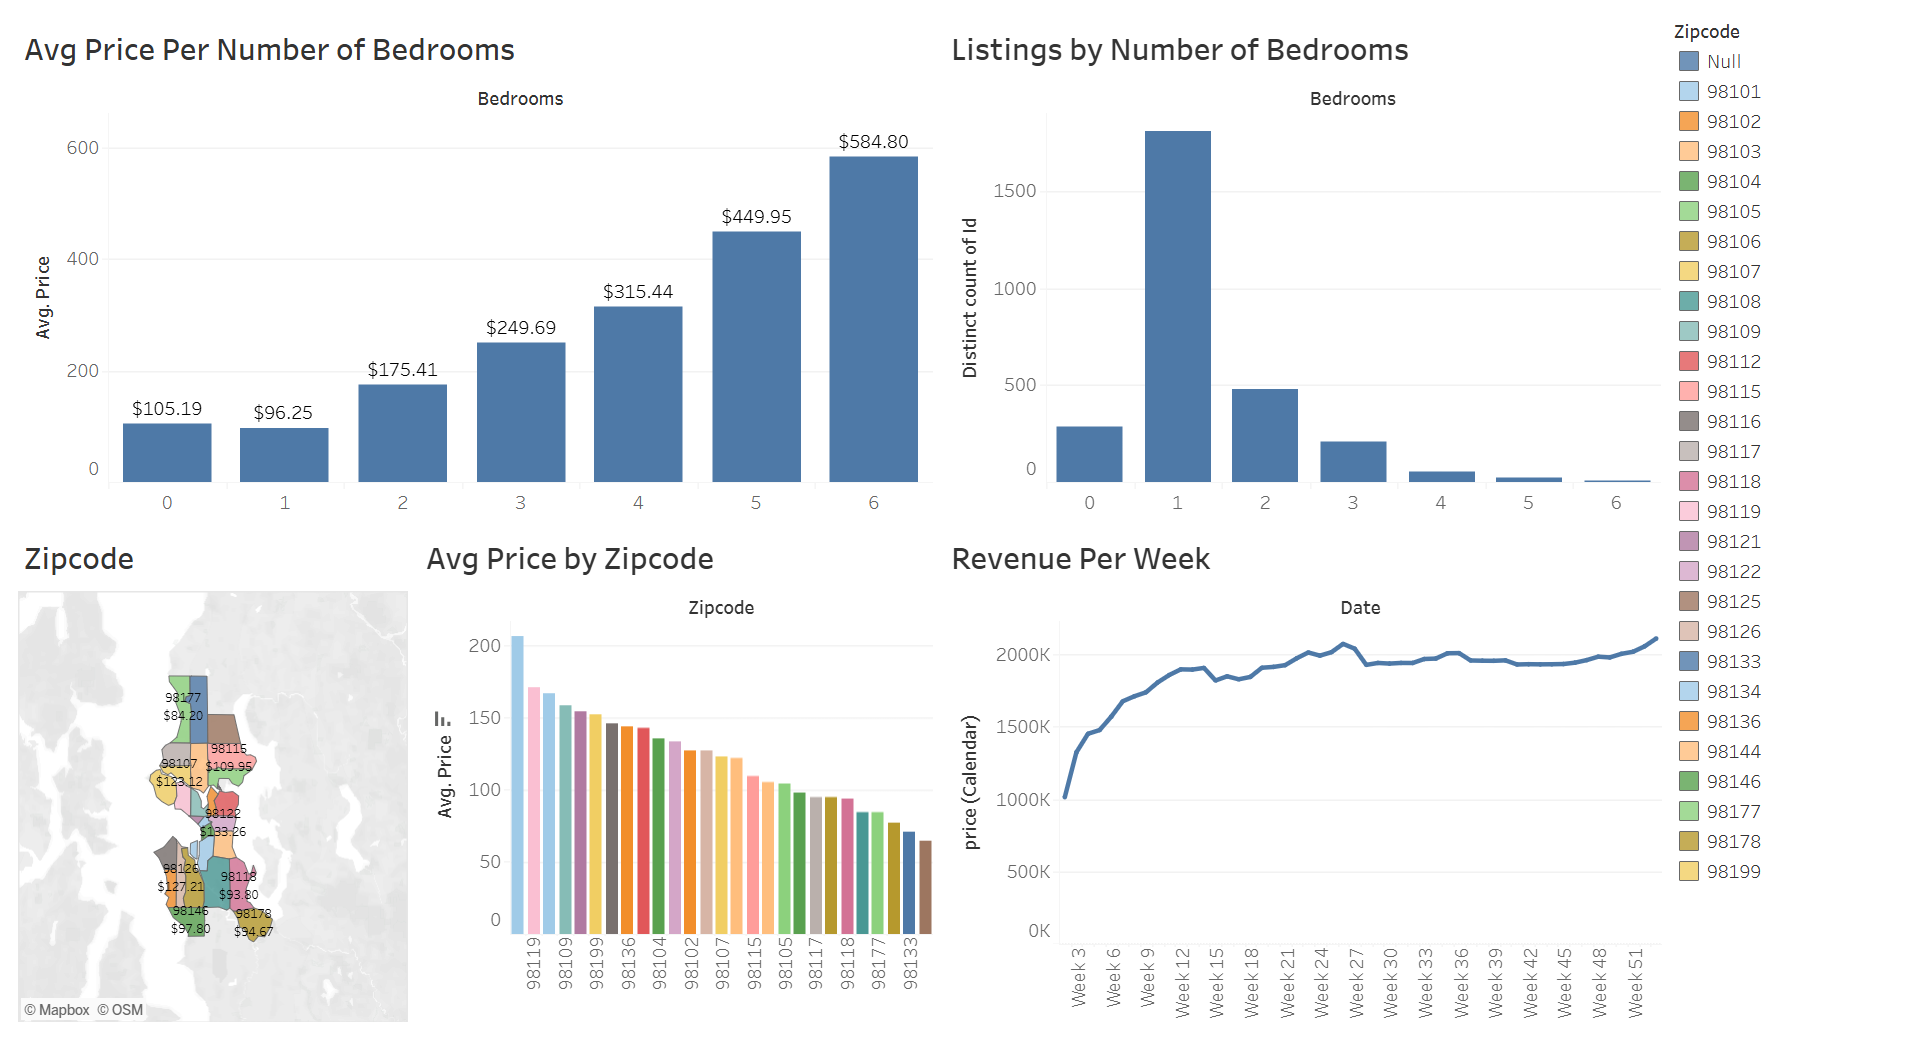

The dashboard page shown, as its layout file describes it:
{"tool":"tableau","page":{"name":"Dashboard 1","canvas":[1000,1000],"units":"permille","ordinal":0},"visuals":[{"type":"worksheet","title":"Sheet 1","mark":"Bar","rows":["price"],"cols":["bedrooms"],"box":[5.3,10.7,494.7,489.3]},{"type":"worksheet","title":"Sheet 5","mark":"Bar","rows":["id"],"cols":["bedrooms"],"box":[500,10.7,389.6,489.3]},{"type":"legend","title":"Sheet 2","param":"[federated.1m6cr6m14d22px18764ys1golpq5].[none:zipcode:ok]","box":[889.6,10.7,105.1,978.6]},{"type":"worksheet","title":"Sheet 2","mark":"Multipolygon","box":[5.3,500,214.8,489.3]},{"type":"worksheet","title":"Sheet 3","mark":"Automatic","rows":["price"],"cols":["zipcode"],"box":[220.1,500,279.9,489.3]},{"type":"worksheet","title":"Sheet 4","mark":"Automatic","rows":["price (Calendar)"],"cols":["date"],"box":[500,500,389.6,489.3]}]}

Visuals, with their boxes on the dashboard's canvas, which has no fixed pixel size, in thousandths of its width and height (x1, y1, x2, y2). These are canvas units, not pixel positions in the 1919x1040 screenshot, which may show the page scaled, cropped or inside an application window:
"Sheet 1" worksheet (Bar marks): (5, 11, 500, 500)
"Sheet 5" worksheet (Bar marks): (500, 11, 890, 500)
"Sheet 2" legend: (890, 11, 995, 989)
"Sheet 2" worksheet (Multipolygon marks): (5, 500, 220, 989)
"Sheet 3" worksheet: (220, 500, 500, 989)
"Sheet 4" worksheet: (500, 500, 890, 989)
